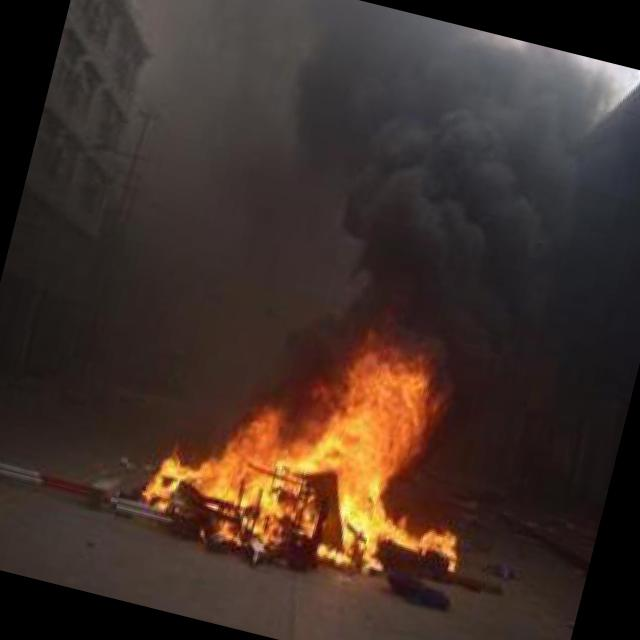fire: (109, 274, 537, 624)
